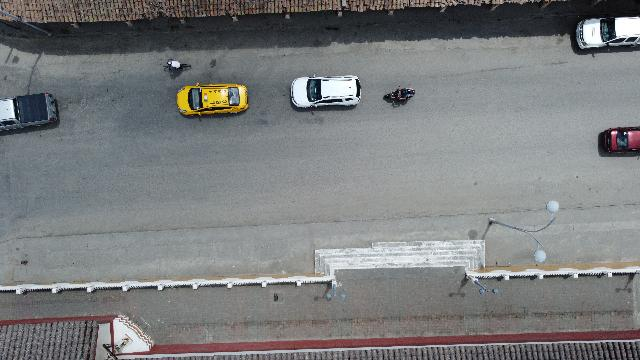Vehiculo: (1, 90, 62, 134), (177, 82, 249, 116), (291, 74, 361, 108), (576, 16, 640, 50), (601, 127, 639, 154)
